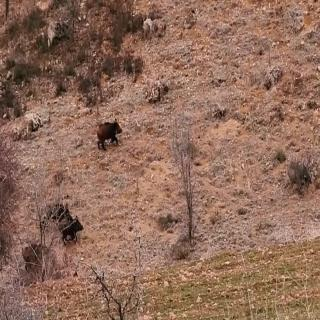Pig: (86, 104, 128, 169)
